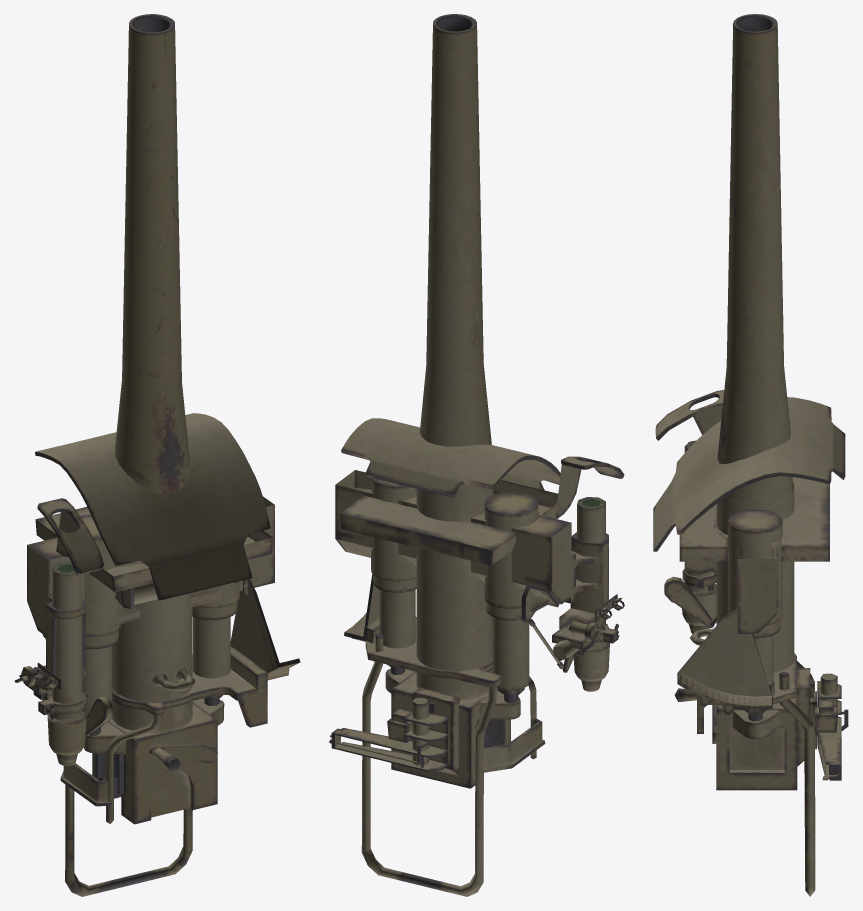
The model's file is Gun_02.glb.
3 views of the same model, side by side, from view 1: azimuth 30°, elevation 25°; view 2: azimuth 150°, elevation 25°; view 3: azimuth 270°, elevation 25° (orthographic). The views are drawn at different scales.
Visible parts, largest first — view 1: set_0_group_0; view 2: set_0_group_0; view 3: set_0_group_0.
Part boxes in pixels (<box>): set_0_group_0: <box>14,14,300,896</box>; set_0_group_0: <box>329,14,624,896</box>; set_0_group_0: <box>653,14,848,896</box>.
Bounding box in the file's own units: 0.8506 × 2.78 × 0.5783.
1 material, 1 textured.
